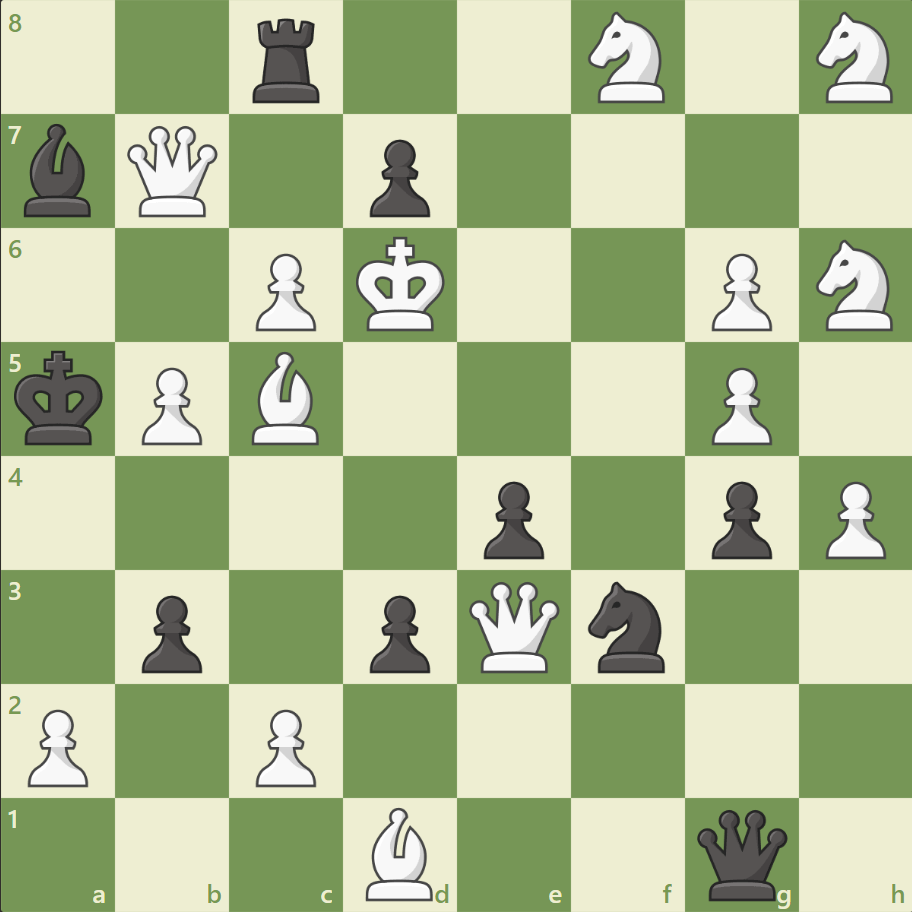B: (358, 801, 442, 904), (244, 347, 328, 449)
K: (351, 231, 451, 339)
N: (579, 7, 676, 110), (806, 7, 903, 110), (806, 234, 903, 337)
P: (247, 246, 322, 337), (701, 246, 776, 337), (133, 359, 208, 450), (701, 359, 776, 450), (20, 700, 95, 791), (247, 700, 322, 791), (815, 473, 889, 564)
Q: (124, 122, 223, 222), (464, 576, 563, 676)
b: (17, 120, 101, 222)
k: (11, 344, 111, 452)
n: (579, 575, 676, 677)
p: (474, 473, 549, 564), (701, 473, 776, 564), (133, 586, 208, 677), (361, 132, 435, 223), (361, 586, 435, 677)
q: (691, 804, 790, 903)
r: (246, 12, 329, 109)
